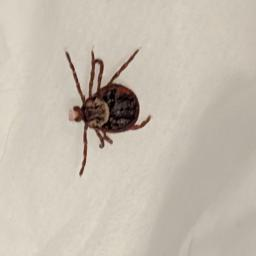Dermacentor variabilis: (60, 45, 156, 178)
